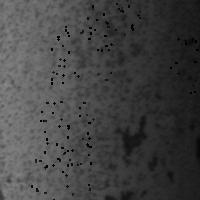pitted_surface: (1, 3, 177, 200), (51, 26, 110, 82), (39, 101, 92, 160), (31, 151, 90, 200), (87, 0, 140, 35), (170, 38, 200, 95)
